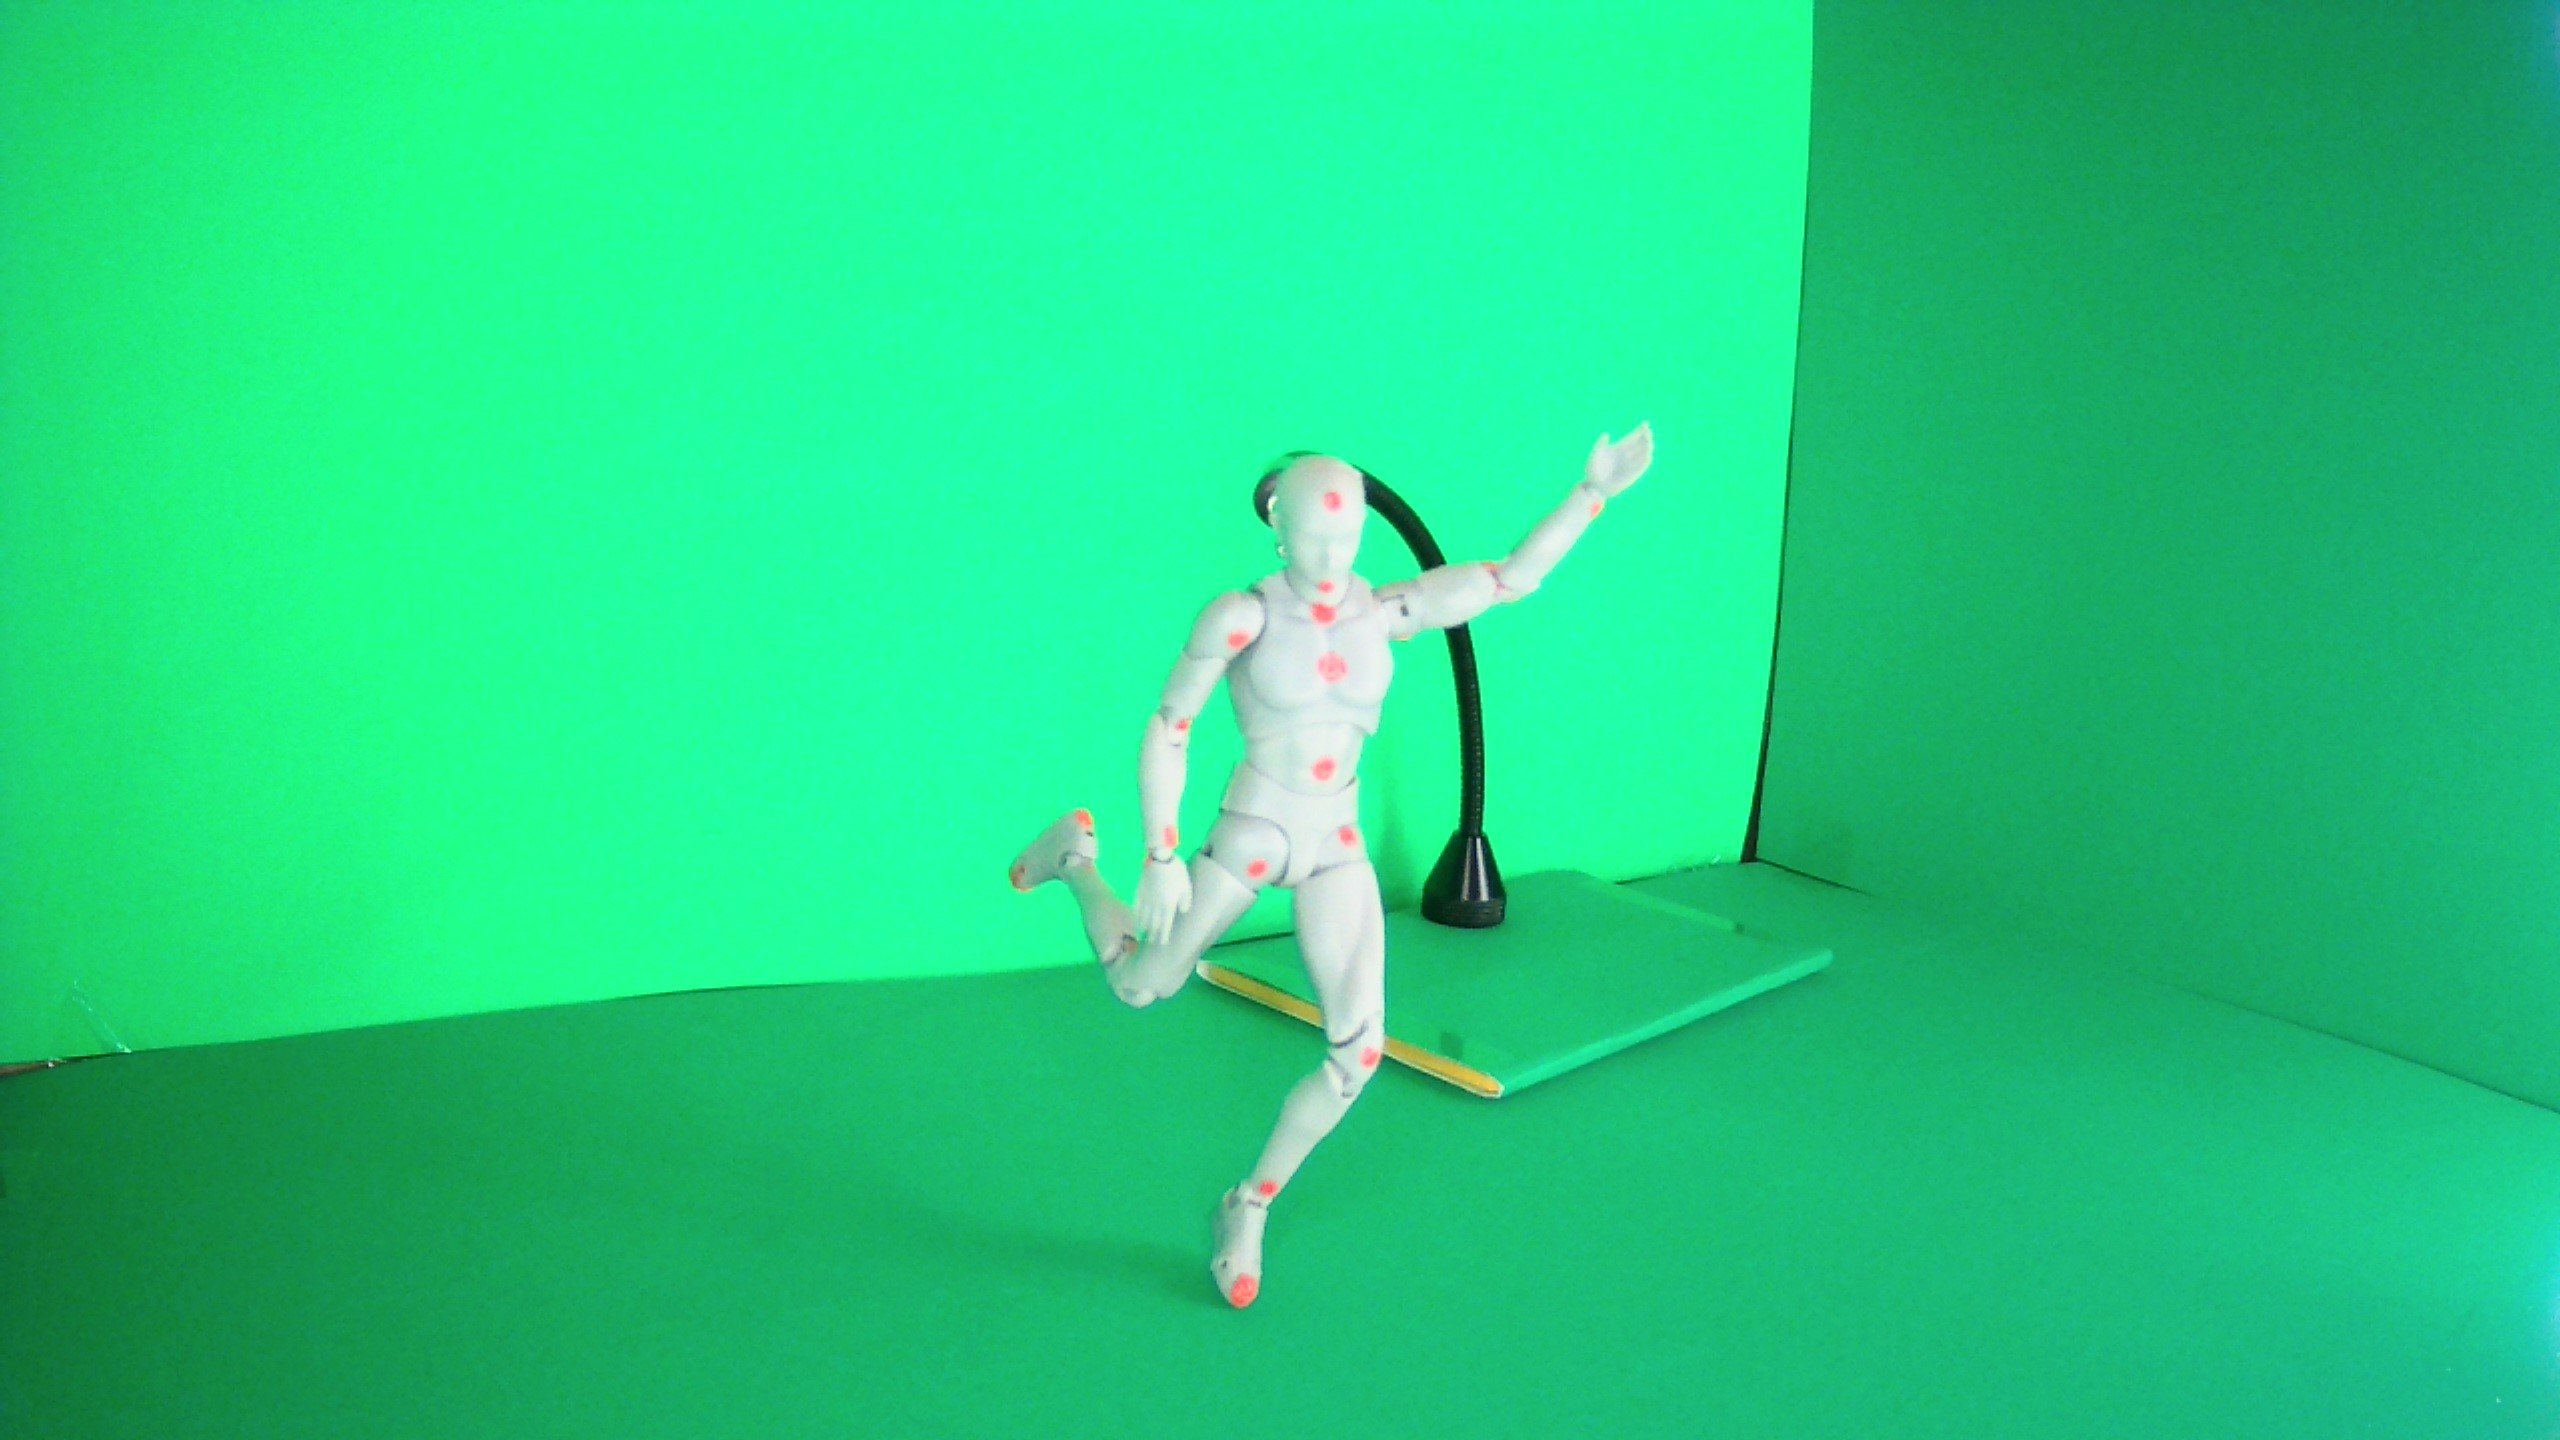person: (1215, 847, 1273, 891), (1222, 614, 1268, 658)
